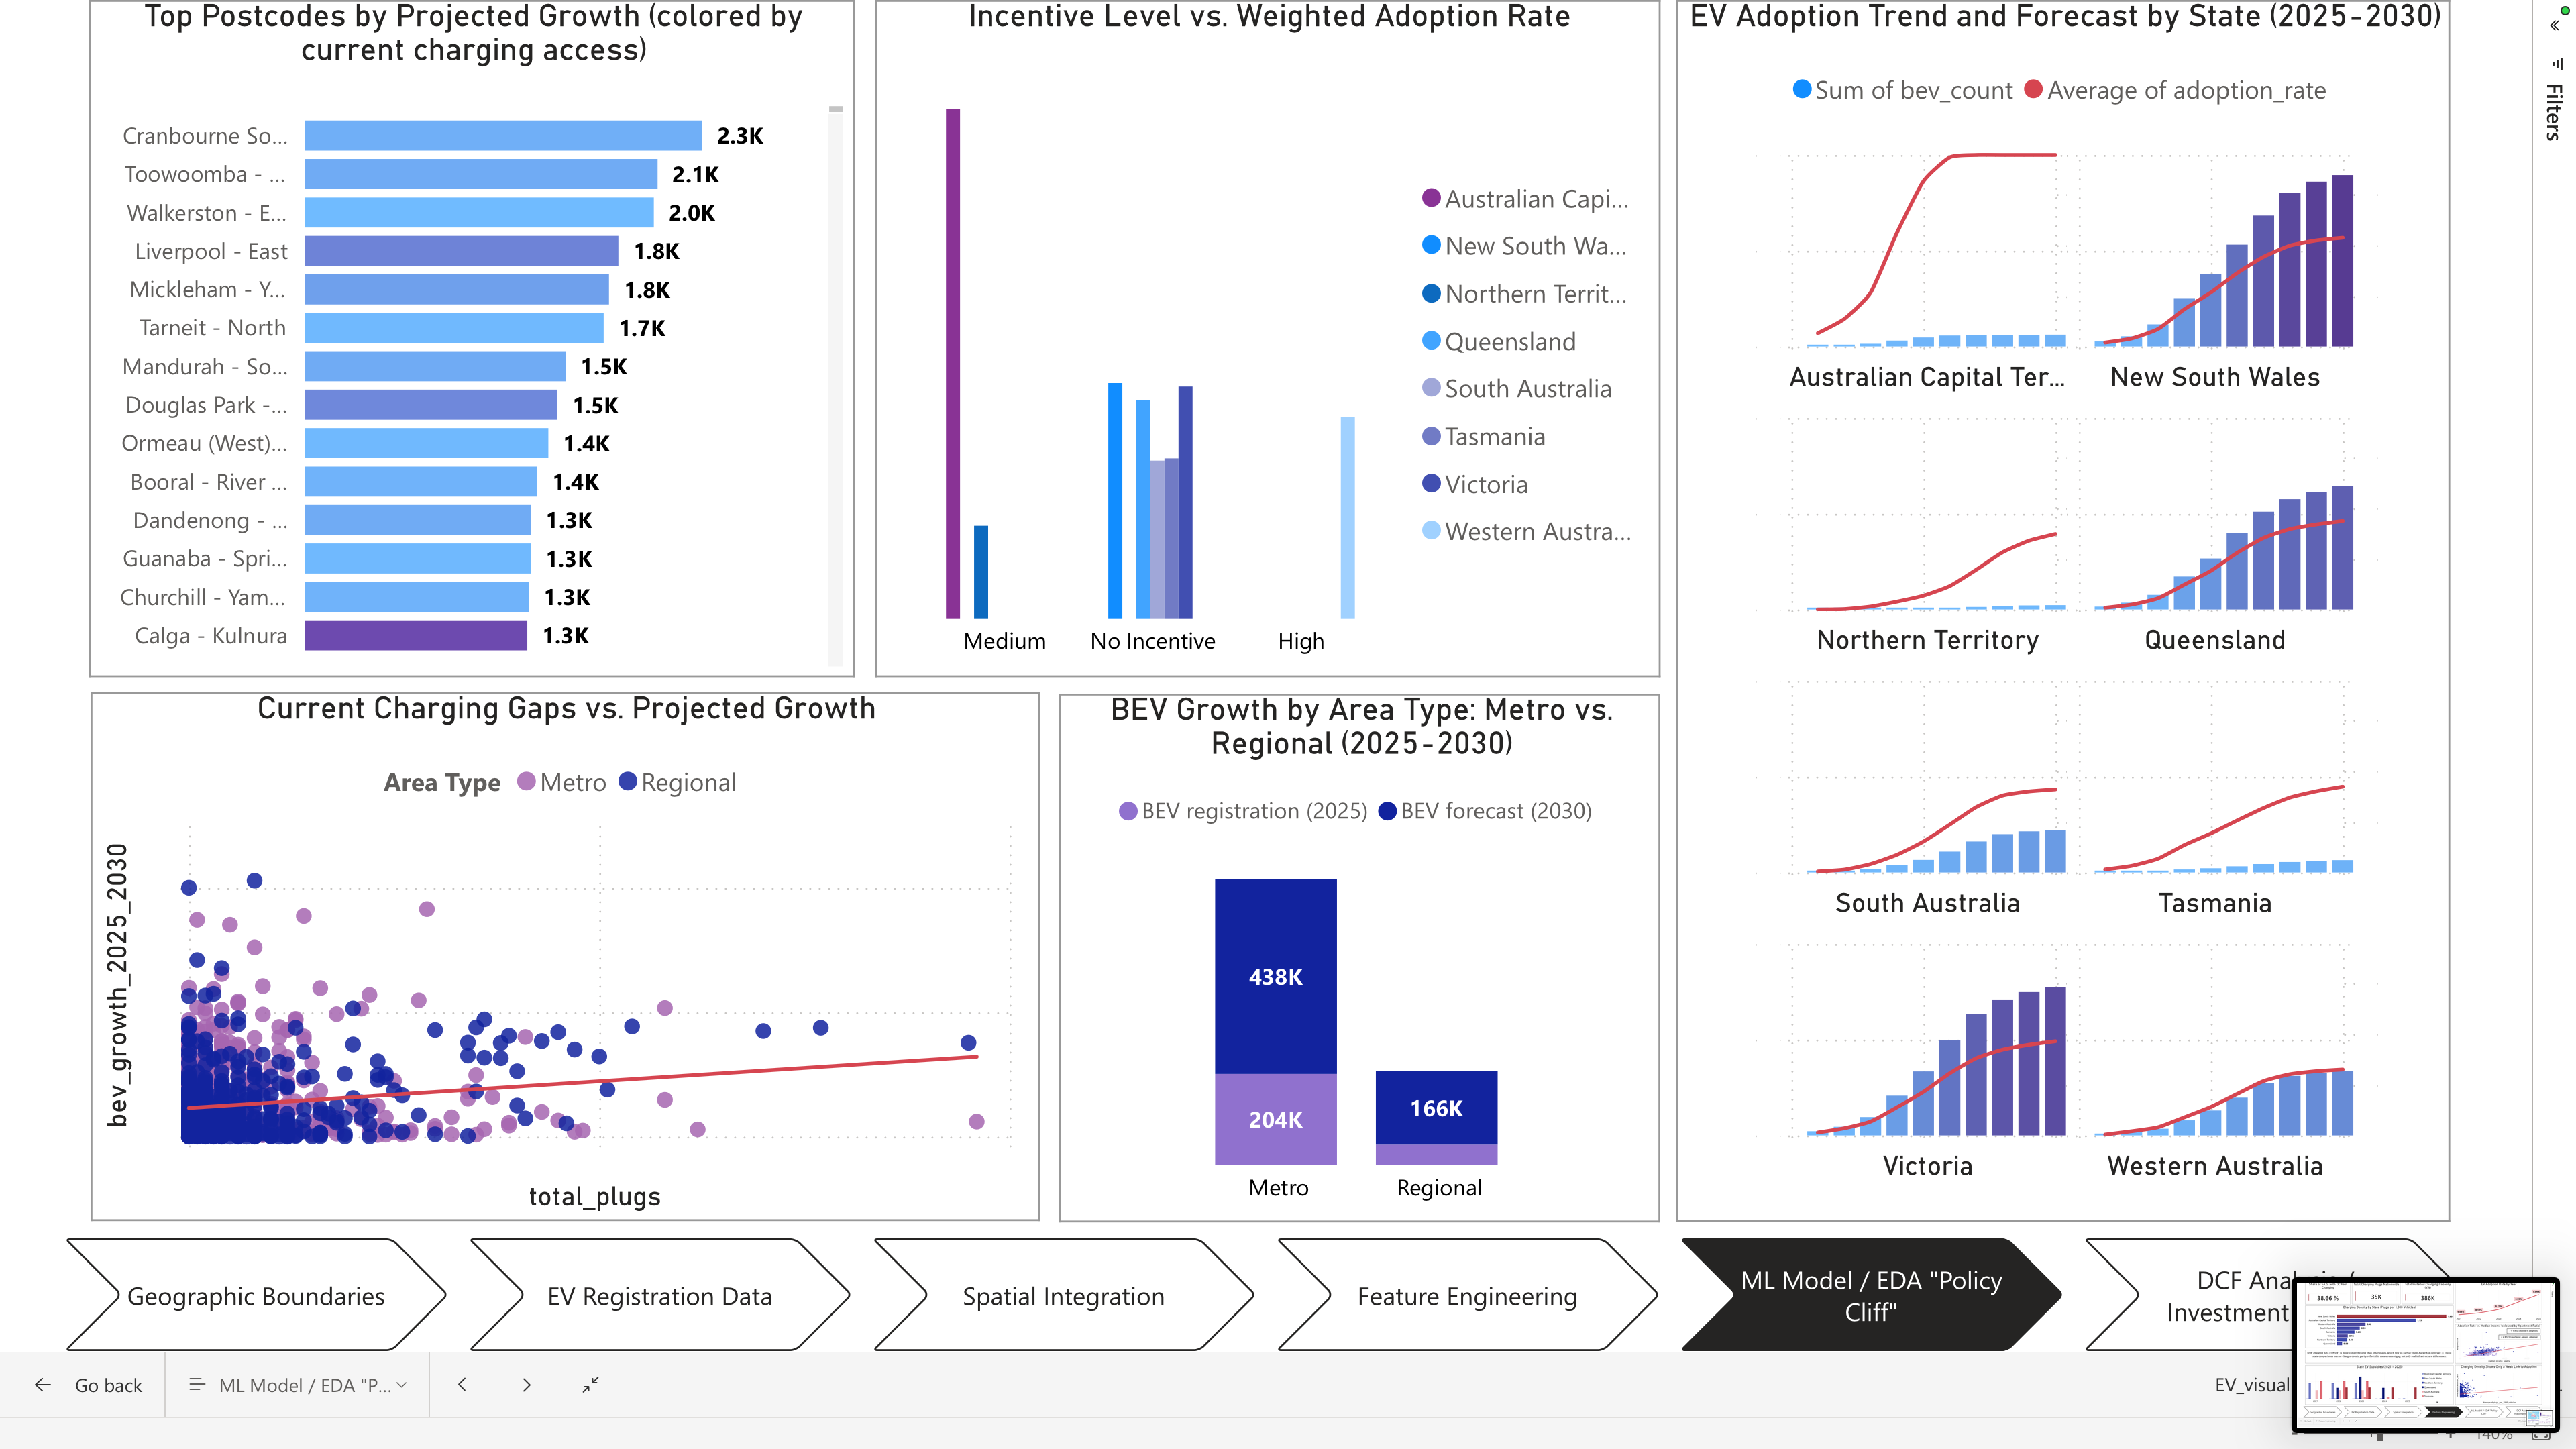

This screenshot's page, from the dashboard's own definition file:
{"tool":"powerbi","page":{"name":"ML Model / EDA \"Policy Cliff\"","canvas":[1280,720],"ordinal":4},"visuals":[{"type":"scatterChart","title":"Current Charging Gaps vs. Projected Growth","fields":{"Series":["ev_master_charging.Area Type"],"X":["regional_forecast_2025_2030.total_plugs"],"Y":["regional_forecast_2025_2030.bev_growth_2025_2030"]},"box":[14,368.7,505.3,281.6],"z":0},{"type":"lineClusteredColumnComboChart","title":"EV Adoption Trend and Forecast by State (2025-2030)","fields":{"Category":["ev_forecast_2026_2030.year"],"Rows":["ev_forecast_2026_2030.STE_NAME21"],"Y":["Sum(ev_forecast_2026_2030.bev_count)"],"Y2":["Avg(ev_forecast_2026_2030.adoption_rate)"]},"box":[858.8,0,412.1,650.5],"z":1000},{"type":"clusteredBarChart","title":"Top Postcodes by Projected Growth (colored by current charging access)","fields":{"Category":["regional_forecast_2025_2030.SA2_NAME21"],"Y":["Sum(regional_forecast_2025_2030.bev_growth_2025_2030)"]},"box":[13.9,0,407.5,360.5],"z":2000},{"type":"clusteredColumnChart","title":"Incentive Level vs. Weighted Adoption Rate","fields":{"Category":["ev_master_charging.Incentive Group"],"Series":["ev_master_charging.STE_NAME21"],"Y":["ev_master_charging.Weighted Adoption Rate"]},"box":[432,0,418.1,360.5],"z":3000},{"type":"columnChart","title":"BEV Growth by Area Type: Metro vs. Regional (2025-2030)","fields":{"Category":["regional_forecast_2025_2030.Area Type"],"Y":["Sum(regional_forecast_2025_2030.bev_count_2025)","Sum(regional_forecast_2025_2030.bev_count_2030)"]},"box":[530.1,369.1,320,281.6],"z":4000},{"type":"pageNavigator","box":[0,659.4,1280,60.6],"z":5000}]}

Visuals, with their boxes on the page's 1280x720 design canvas (x1, y1, x2, y2). These are canvas units, not pixel positions in the 2576x1449 screenshot, which may show the page scaled, cropped or inside an application window:
"Current Charging Gaps vs. Projected Growth" scatterChart: [x1=14, y1=369, x2=519, y2=650]
"EV Adoption Trend and Forecast by State (2025-2030)" lineClusteredColumnComboChart: [x1=859, y1=0, x2=1271, y2=650]
"Top Postcodes by Projected Growth (colored by current charging access)" clusteredBarChart: [x1=14, y1=0, x2=421, y2=360]
"Incentive Level vs. Weighted Adoption Rate" clusteredColumnChart: [x1=432, y1=0, x2=850, y2=360]
"BEV Growth by Area Type: Metro vs. Regional (2025-2030)" columnChart: [x1=530, y1=369, x2=850, y2=651]
pageNavigator: [x1=0, y1=659, x2=1280, y2=720]
